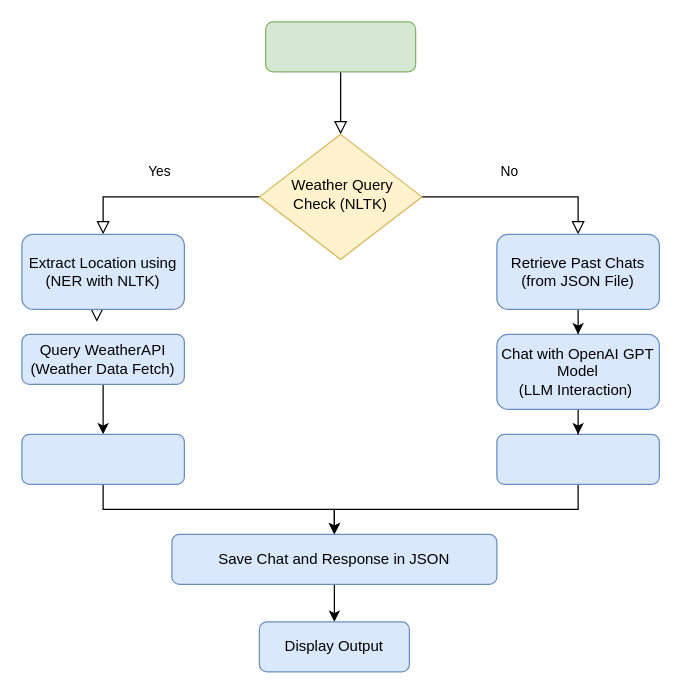
This 681x694 diagram has some shape labels left out. The shapes that lost their labels are listed below. From the top down, each one's centre as x and y in pixels, then its label:
At pixel 340 46: "User Input".
At pixel 102 458: "Format Weather Response".
At pixel 577 458: "Format OpenAI Response".
